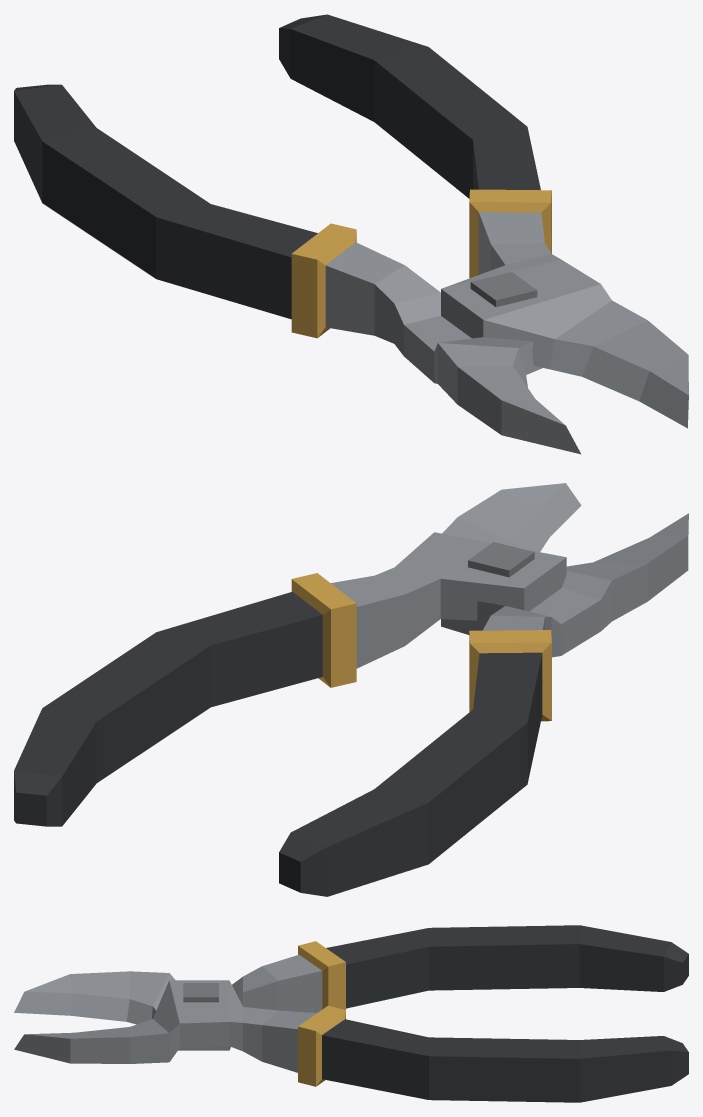
File: Item_Wirecutter_01.glb
3 views of the same model, one above another, from view 1: azimuth 30°, elevation 25°; view 2: azimuth 150°, elevation 25°; view 3: azimuth 270°, elevation 25° (orthographic). The views are drawn at different scales.
Visible parts, largest first — view 1: Item_Wirecutter_01; view 2: Item_Wirecutter_01; view 3: Item_Wirecutter_01.
Part boxes in pixels (x1,y1,x2,y2): Item_Wirecutter_01: (14,14,688,454); Item_Wirecutter_01: (14,483,688,896); Item_Wirecutter_01: (14,925,688,1102).
Size of the model in its own units: 0.1504 by 0.0293 by 0.3211.
Materials: 1 (1 with a texture image).
